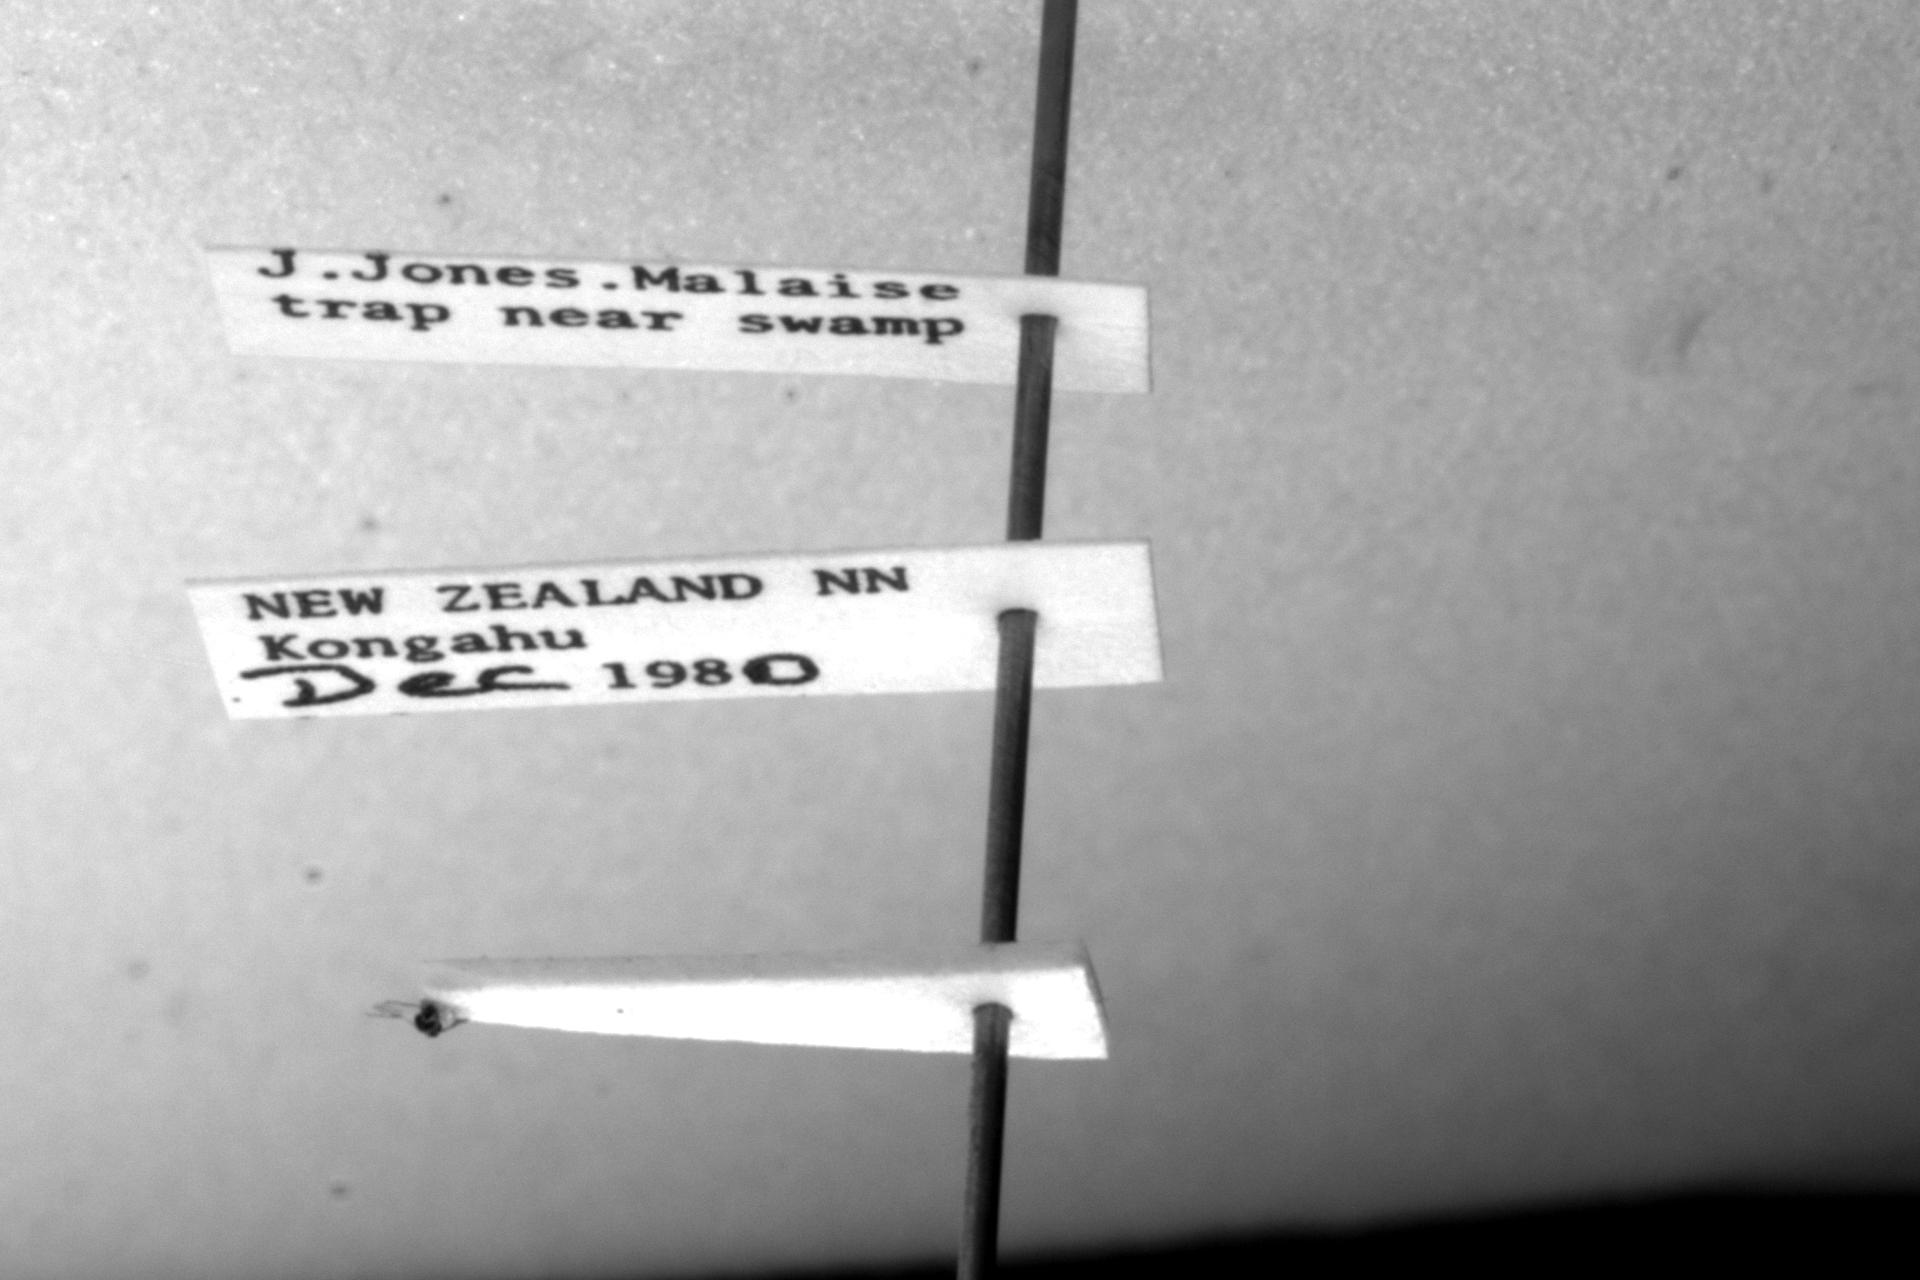mixed_label: (188, 544, 1162, 720)
typed_label: (206, 248, 1151, 394)
